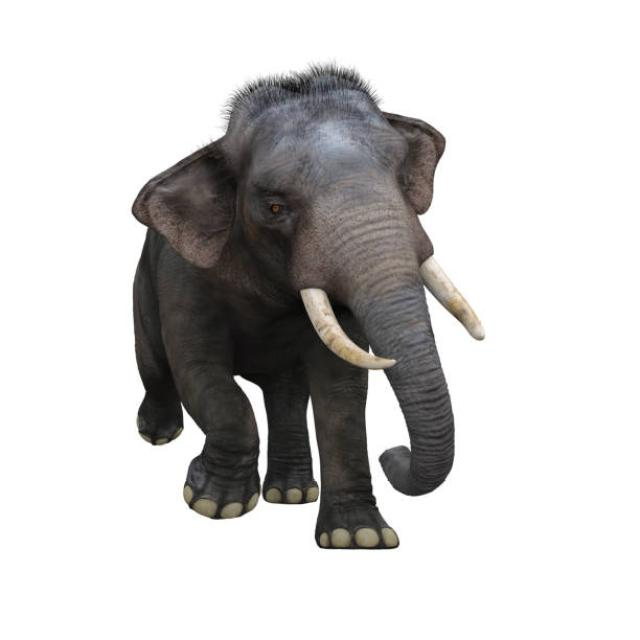Elephant: (121, 64, 499, 564)
